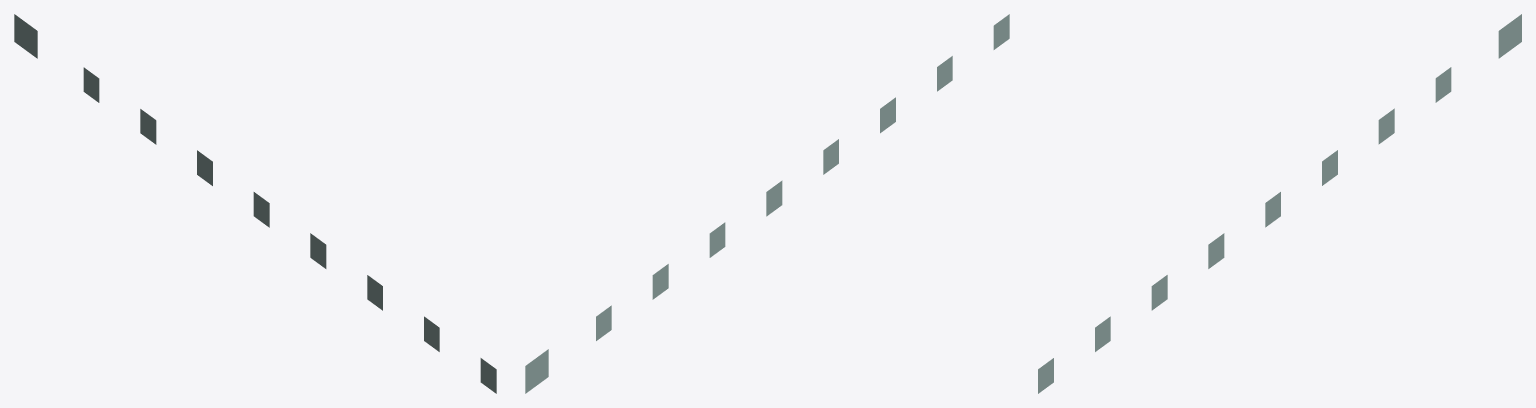
The model's file is SM_Town_Motel_Glass.glb.
3 renders of one model, left to right at view 1: azimuth 30°, elevation 25°; view 2: azimuth 150°, elevation 25°; view 3: azimuth 330°, elevation 25°, orthographic.
Visible parts, largest first — view 1: SM_Town_Motel_Glass; view 2: SM_Town_Motel_Glass; view 3: SM_Town_Motel_Glass.
Boxes of the visible parts, left/top/right/bottom form: SM_Town_Motel_Glass: left=14, top=14, right=496, bottom=393; SM_Town_Motel_Glass: left=525, top=14, right=1009, bottom=393; SM_Town_Motel_Glass: left=1038, top=14, right=1521, bottom=393.
Bounding box in the file's own units: 0.031 × 1.36 × 42.55.
